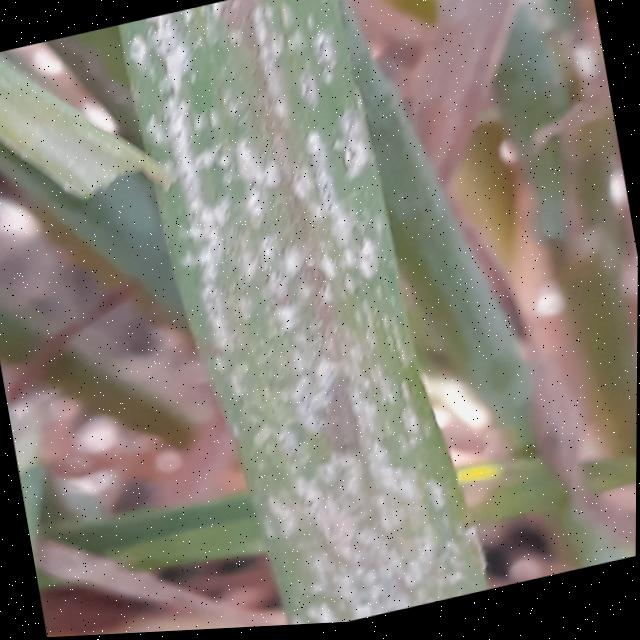powder_mildew: (121, 0, 520, 635)
